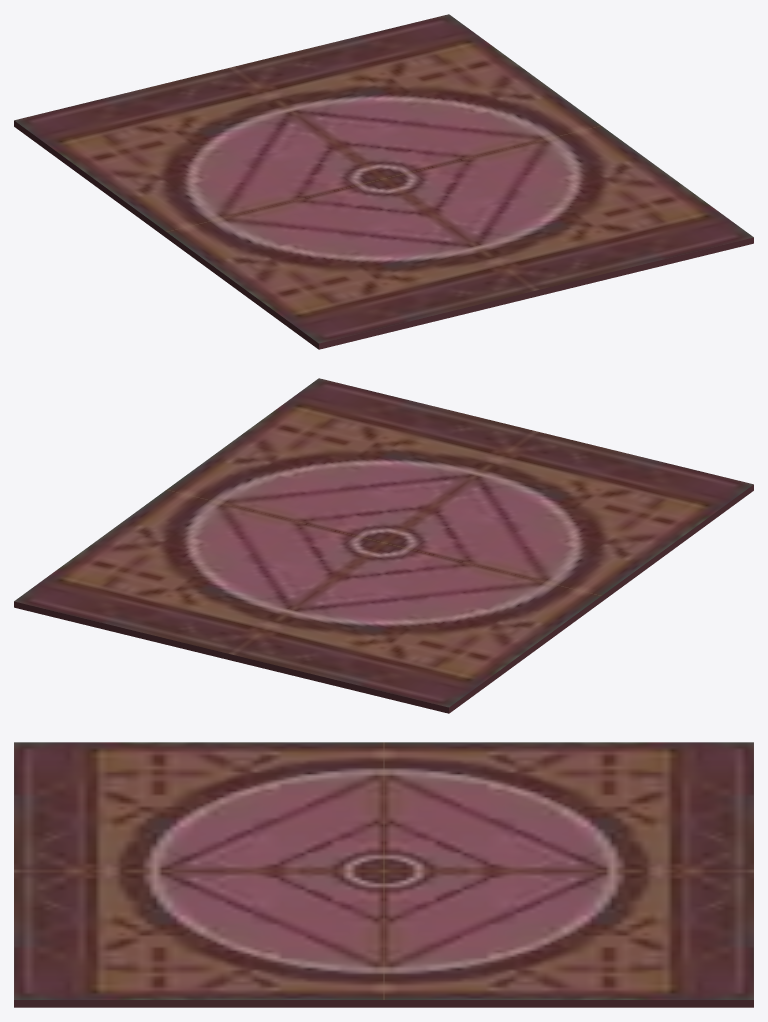
The model's file is rug5.glb.
3 views of the same model, one above another, from view 1: azimuth 30°, elevation 25°; view 2: azimuth 150°, elevation 25°; view 3: azimuth 270°, elevation 25° (orthographic). The views are drawn at different scales.
Visible parts, largest first — view 1: SM_Prop_Camp_Rug_02; view 2: SM_Prop_Camp_Rug_02; view 3: SM_Prop_Camp_Rug_02.
Part boxes in pixels (bbox=[...]): SM_Prop_Camp_Rug_02: bbox=[14, 14, 753, 349]; SM_Prop_Camp_Rug_02: bbox=[14, 378, 753, 713]; SM_Prop_Camp_Rug_02: bbox=[14, 742, 753, 1007].
Bounding box in the file's own units: 1.72 × 0.0236 × 2.09.
1 material, 1 textured.
